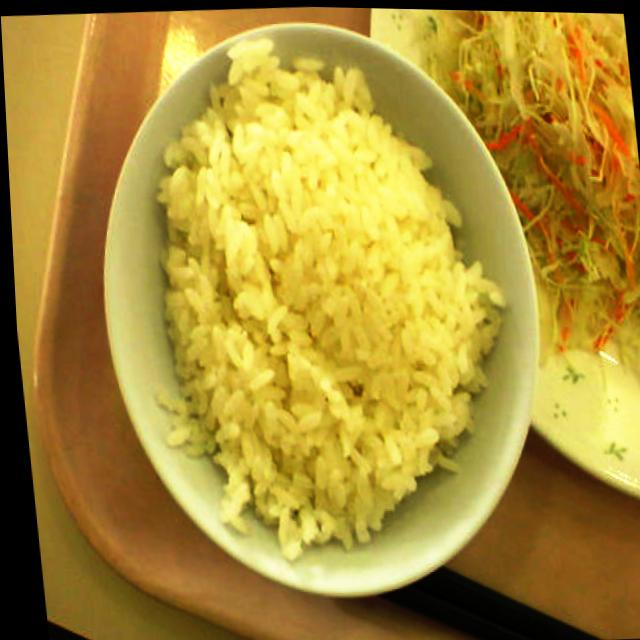rice: (120, 23, 536, 572)
